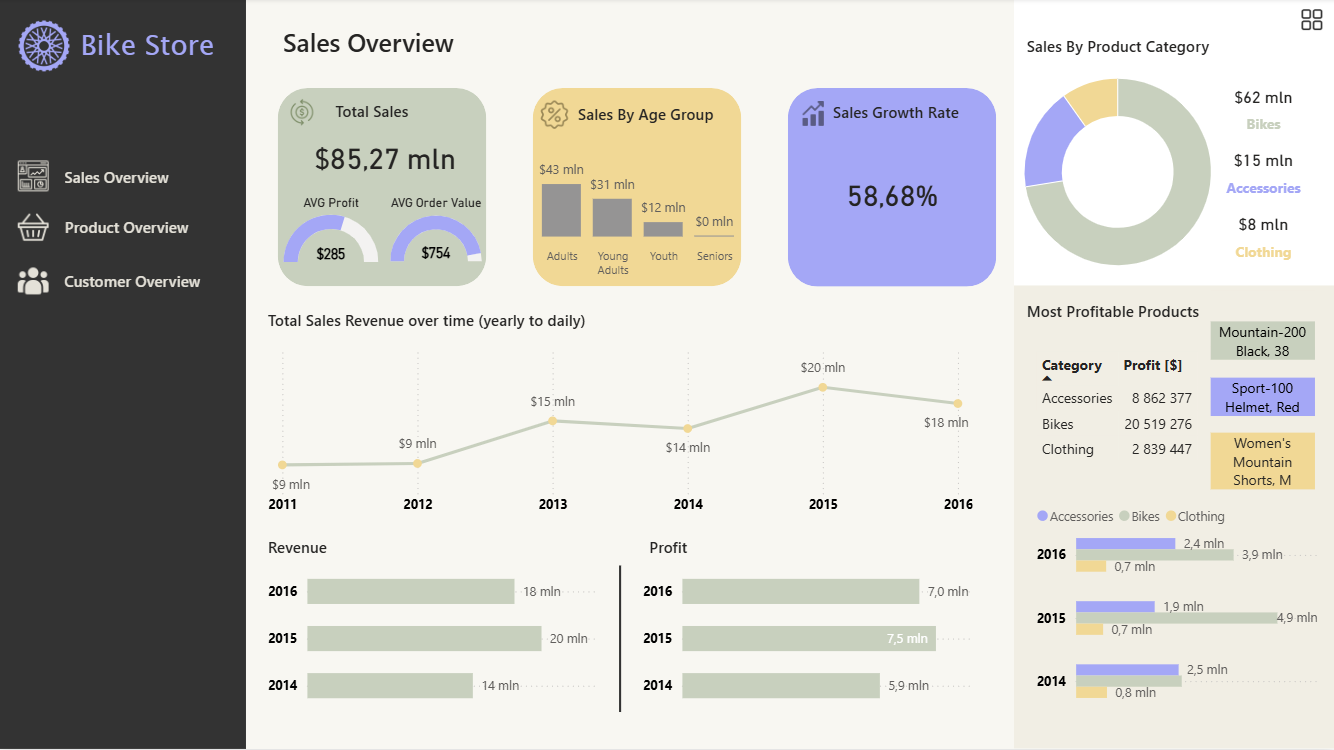

The dashboard page shown, as its layout file describes it:
{"tool":"powerbi","page":{"name":"Sales Overview","canvas":[1280,720],"ordinal":1},"visuals":[{"type":"shape","box":[756,85.7,200,190.5],"z":0},{"type":"shape","box":[0,0,236.9,720.2],"z":1000},{"type":"shape","box":[511.3,85.7,200,190],"z":2000},{"type":"textbox","box":[266.7,21.4,195.2,46.4],"z":3000},{"type":"shape","box":[266.7,85.7,200,190],"z":4000},{"type":"shape","box":[972.6,0,307.1,276.2],"z":5000},{"type":"shape","box":[972.8,275.9,307.2,443.7],"z":6000},{"type":"textbox","box":[317.9,94,82.1,32.1],"z":7000},{"type":"image","box":[277.4,96.4,27,27],"z":8000},{"type":"textbox","box":[550,96.4,144,32.1],"z":9000},{"type":"image","box":[519.1,98.8,27,27],"z":10000},{"type":"image","box":[766.7,97.6,27.4,27.4],"z":11000},{"type":"textbox","box":[794.1,95.2,144,32.1],"z":12000},{"type":"textbox","box":[72.6,20.2,153.6,65.5],"z":13000},{"type":"image","box":[17.9,21.4,51.2,48.8],"z":14000},{"type":"image","box":[17.9,156,29.8,29.8],"z":15000},{"type":"image","box":[17.9,204.8,29.8,29.8],"z":16000},{"type":"image","box":[17.9,256,29.8,29.8],"z":17000},{"type":"actionButton","box":[48.8,154.8,127.4,34.5],"z":18000},{"type":"actionButton","box":[58.3,202.4,127.4,34.5],"z":19000},{"type":"actionButton","box":[56,253.6,142.9,34.5],"z":20000},{"type":"card","fields":{"Values":["_Measures.Total Sales Revenue"]},"box":[292.9,128.6,156,48.8],"z":21000},{"type":"donutChart","fields":{"Category":["FactSales.Product_Category"],"Y":["_Measures.Total Sales Revenue","_Measures.Average Order Value"]},"box":[922.6,50,300,233.3],"z":22000},{"type":"gauge","title":"AVG Profit","fields":{"MaxValue":["_Measures.Profit per Order Target"],"Y":["_Measures.AVG Profit per Order"]},"box":[266.7,189.3,102.4,69],"z":23000},{"type":"gauge","title":"AVG Order Value","fields":{"MaxValue":["_Measures.Average Order Value Target"],"Y":["_Measures.Average Order Value"]},"box":[370.2,189.3,97.6,69],"z":24000},{"type":"columnChart","fields":{"Category":["FactSales.Age_FriendlyName"],"Y":["_Measures.Total Sales Revenue"]},"box":[490.5,141.7,240.5,134.5],"z":25000},{"type":"card","fields":{"Values":["_Measures.Sales Growth Rate"]},"box":[779.8,129.8,152.4,117.9],"z":26000},{"type":"card","fields":{"Values":["_Measures.Total Sales Revenue"]},"box":[1157.1,71.4,111.9,65.5],"z":27000},{"type":"card","fields":{"Values":["_Measures.Total Sales Revenue"]},"box":[1157.1,133.3,111.9,65.5],"z":28000},{"type":"card","fields":{"Values":["_Measures.Total Sales Revenue"]},"box":[1157.1,195.2,111.9,63.1],"z":29000},{"type":"textbox","box":[981,31,185.7,32.1],"z":30000},{"type":"lineChart","fields":{"Category":["DimDates.Day","DimDates.Month","DimDates.Year"],"Y":["_Measures.Total Sales Revenue"]},"box":[252.4,326.2,685.7,178.6],"z":31000},{"type":"textbox","box":[252.4,294,370.2,32.1],"z":32000},{"type":"shape","box":[572.6,544.1,45.2,140.5],"z":33000},{"type":"clusteredBarChart","fields":{"Category":["DimDates.Year"],"Y":["Sum(FactSales.Revenue)"]},"box":[252.4,544.1,326,140.5],"z":34000},{"type":"clusteredBarChart","fields":{"Category":["DimDates.Year"],"Y":["Sum(FactSales.Profit)"]},"box":[611.9,544.1,326.2,140.5],"z":35000},{"type":"textbox","box":[617.9,511.9,148.8,32.1],"z":36000},{"type":"textbox","box":[252.4,511.9,185.7,32.1],"z":37000},{"type":"textbox","box":[981,285.7,185.7,32.1],"z":38000},{"type":"pivotTable","fields":{"Rows":["FactSales.Product_Category"],"Values":["Sum(FactSales.Profit)"]},"box":[990,334.4,164.2,142.6],"z":39000},{"type":"clusteredBarChart","fields":{"Category":["DimDates.Year"],"Series":["FactSales.Product_Category"],"Y":["Sum(FactSales.Profit)"]},"box":[990,477,279.3,207.3],"z":40000},{"type":"image","box":[1248.8,10.7,20.2,20.2],"z":41000},{"type":"tableEx","fields":{"Values":["FactSales.Product"]},"box":[1154.8,382.1,121.4,95.2],"z":42000},{"type":"tableEx","fields":{"Values":["FactSales.Product"]},"box":[1154.8,329.2,121.4,83.3],"z":43000},{"type":"tableEx","fields":{"Values":["FactSales.Product"]},"box":[1154.8,276.2,121.4,83.3],"z":44000},{"type":"actionButton","box":[1239.2,2.4,38.4,38.4],"z":45000}]}

Visuals, with their boxes on the page's 1280x720 design canvas (x1, y1, x2, y2). These are canvas units, not pixel positions in the 1334x750 screenshot, which may show the page scaled, cropped or inside an application window:
shape: BBox(756, 86, 956, 276)
shape: BBox(0, 0, 237, 720)
shape: BBox(511, 86, 711, 276)
textbox: BBox(267, 21, 462, 68)
shape: BBox(267, 86, 467, 276)
shape: BBox(973, 0, 1280, 276)
shape: BBox(973, 276, 1280, 720)
textbox: BBox(318, 94, 400, 126)
image: BBox(277, 96, 304, 123)
textbox: BBox(550, 96, 694, 128)
image: BBox(519, 99, 546, 126)
image: BBox(767, 98, 794, 125)
textbox: BBox(794, 95, 938, 127)
textbox: BBox(73, 20, 226, 86)
image: BBox(18, 21, 69, 70)
image: BBox(18, 156, 48, 186)
image: BBox(18, 205, 48, 235)
image: BBox(18, 256, 48, 286)
actionButton: BBox(49, 155, 176, 189)
actionButton: BBox(58, 202, 186, 237)
actionButton: BBox(56, 254, 199, 288)
card - _Measures.Total Sales Revenue: BBox(293, 129, 449, 177)
donutChart - FactSales.Product_Category x _Measures.Total Sales Revenue: BBox(923, 50, 1223, 283)
"AVG Profit" gauge: BBox(267, 189, 369, 258)
"AVG Order Value" gauge: BBox(370, 189, 468, 258)
columnChart - FactSales.Age_FriendlyName x _Measures.Total Sales Revenue: BBox(490, 142, 731, 276)
card - _Measures.Sales Growth Rate: BBox(780, 130, 932, 248)
card - _Measures.Total Sales Revenue: BBox(1157, 71, 1269, 137)
card - _Measures.Total Sales Revenue: BBox(1157, 133, 1269, 199)
card - _Measures.Total Sales Revenue: BBox(1157, 195, 1269, 258)
textbox: BBox(981, 31, 1167, 63)
lineChart - DimDates.Day x DimDates.Month: BBox(252, 326, 938, 505)
textbox: BBox(252, 294, 623, 326)
shape: BBox(573, 544, 618, 685)
clusteredBarChart - DimDates.Year x Sum(FactSales.Revenue): BBox(252, 544, 578, 685)
clusteredBarChart - DimDates.Year x Sum(FactSales.Profit): BBox(612, 544, 938, 685)
textbox: BBox(618, 512, 767, 544)
textbox: BBox(252, 512, 438, 544)
textbox: BBox(981, 286, 1167, 318)
pivotTable - FactSales.Product_Category x Sum(FactSales.Profit): BBox(990, 334, 1154, 477)
clusteredBarChart - DimDates.Year x FactSales.Product_Category: BBox(990, 477, 1269, 684)
image: BBox(1249, 11, 1269, 31)
tableEx - FactSales.Product: BBox(1155, 382, 1276, 477)
tableEx - FactSales.Product: BBox(1155, 329, 1276, 412)
tableEx - FactSales.Product: BBox(1155, 276, 1276, 360)
actionButton: BBox(1239, 2, 1278, 41)
